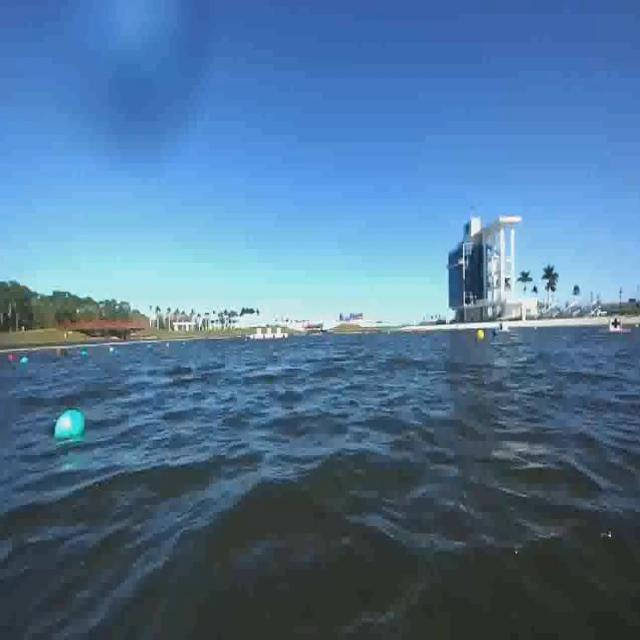green-buoy: (54, 412, 86, 442), (20, 356, 28, 367)
yellow-buoy: (478, 326, 487, 341)
